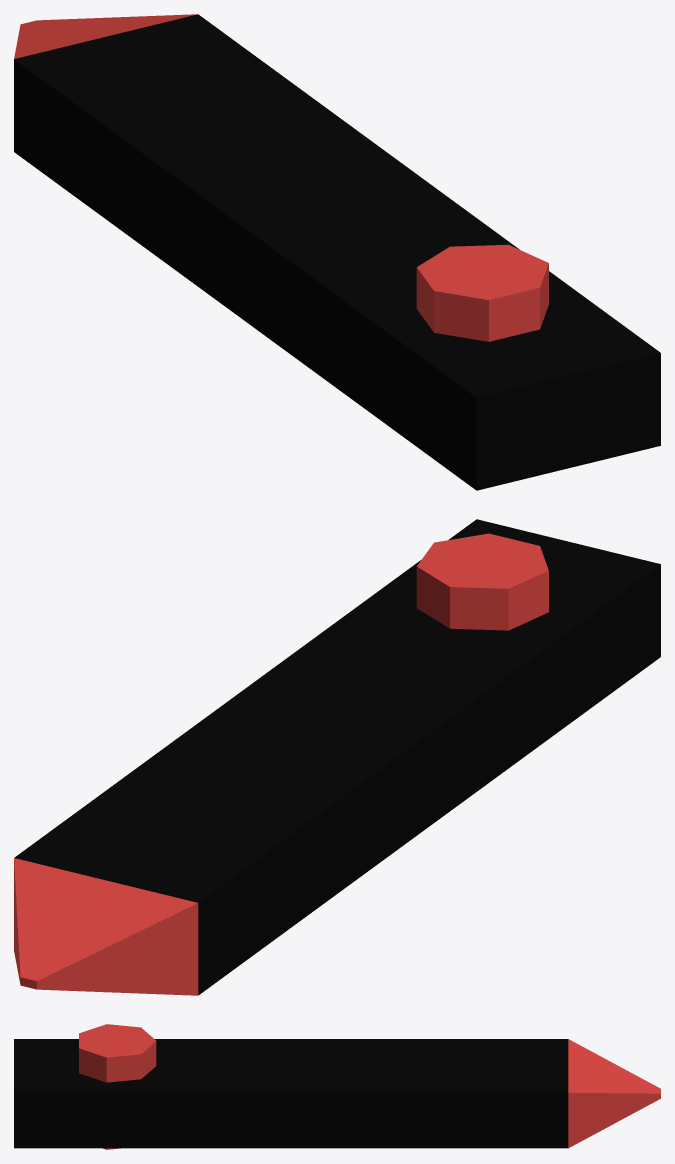
Rendered from needle.glb.
3 renders of one model, top to bottom at view 1: azimuth 30°, elevation 25°; view 2: azimuth 150°, elevation 25°; view 3: azimuth 270°, elevation 25°, orthographic. The views are drawn at different scales.
Visible parts, largest first — view 1: Cylinder.001; view 2: Cylinder.001; view 3: Cylinder.001.
Boxes of the visible parts, <box> form: Cylinder.001: <box>14,14,660,490</box>; Cylinder.001: <box>14,519,660,995</box>; Cylinder.001: <box>14,1024,660,1149</box>.
Size of the model in its own units: 0.00626 by 0.005 by 0.0318.
1 material, 1 textured.
